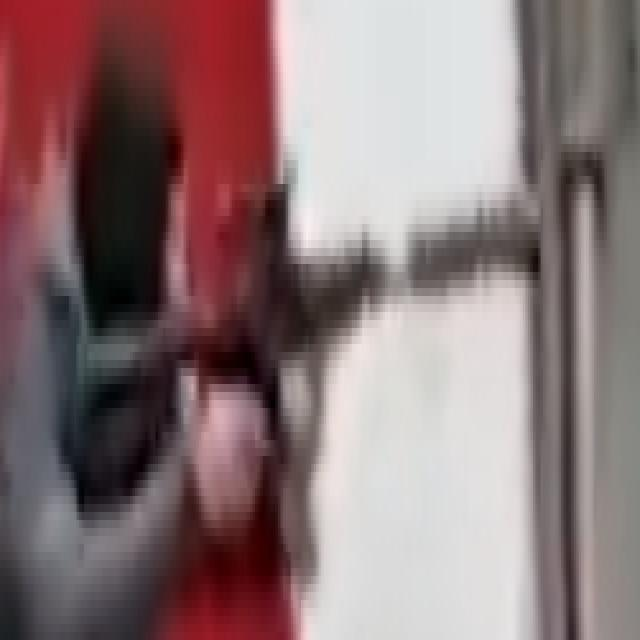RifleTel: (72, 158, 552, 516)
